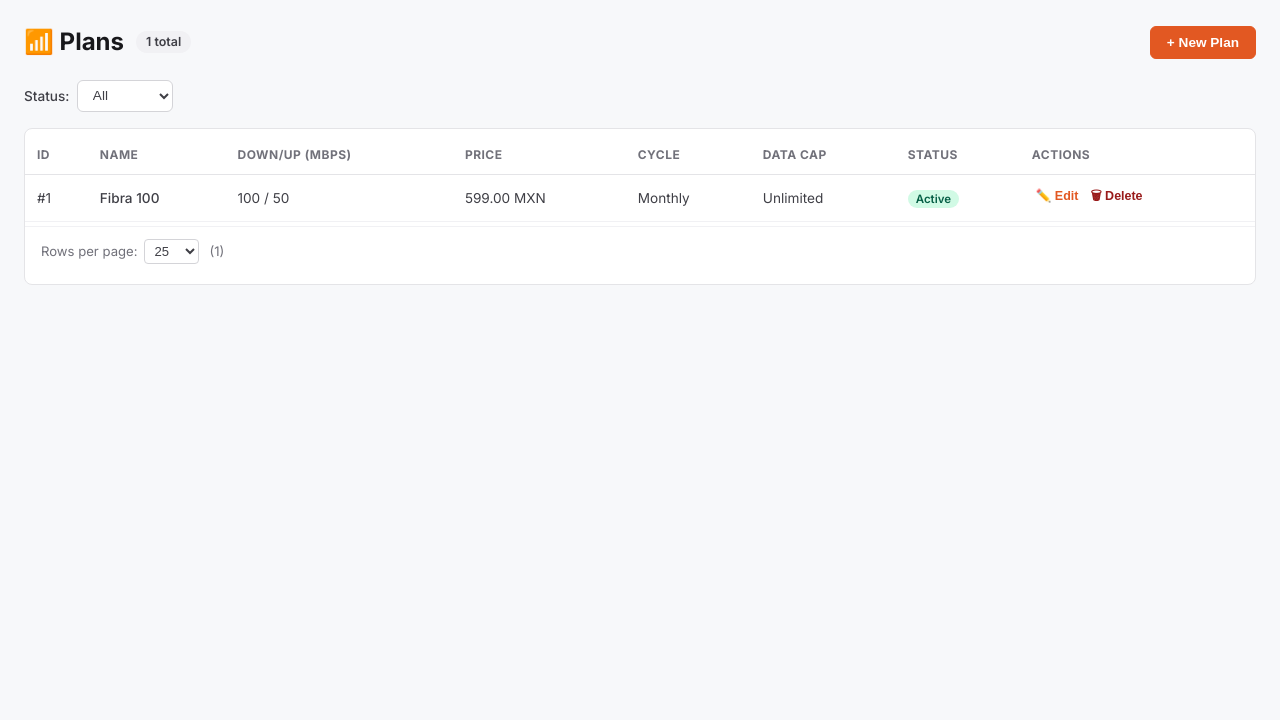
Test: PlanList page › renders Overage Mode select in plan modal
Expected: the text "Fibra 100" is shown, [88, 174, 226, 221]
Click the button "+ New Plan" at x=1203, y=42, box [1150, 26, 1256, 58]
(page scrolled)
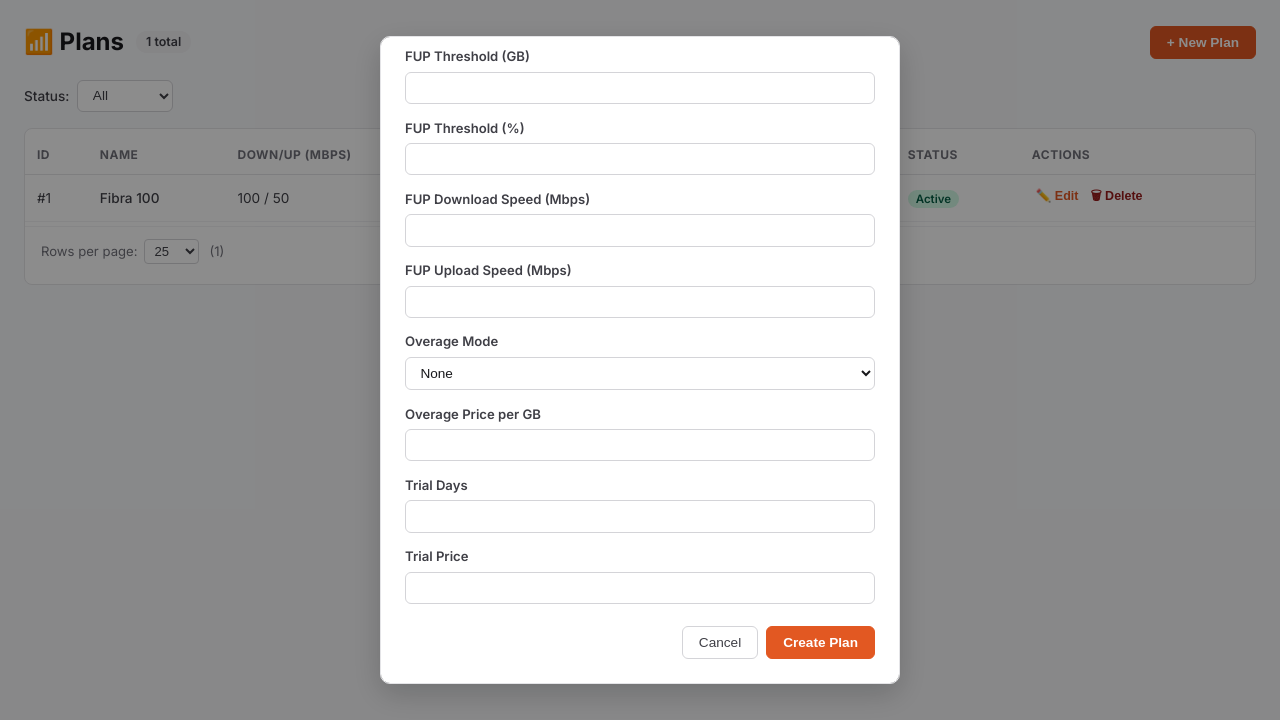
Expected: the dropdown labelled "Overage Mode" is shown, [405, 357, 875, 390]
